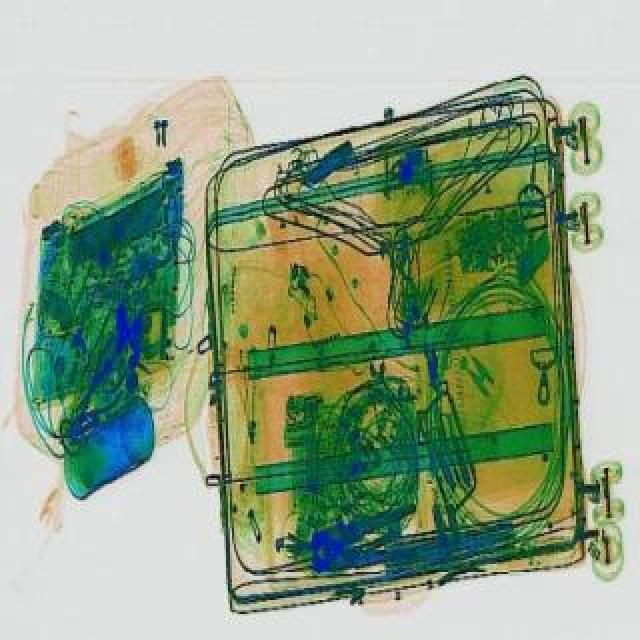wrench: (304, 500, 432, 574)
